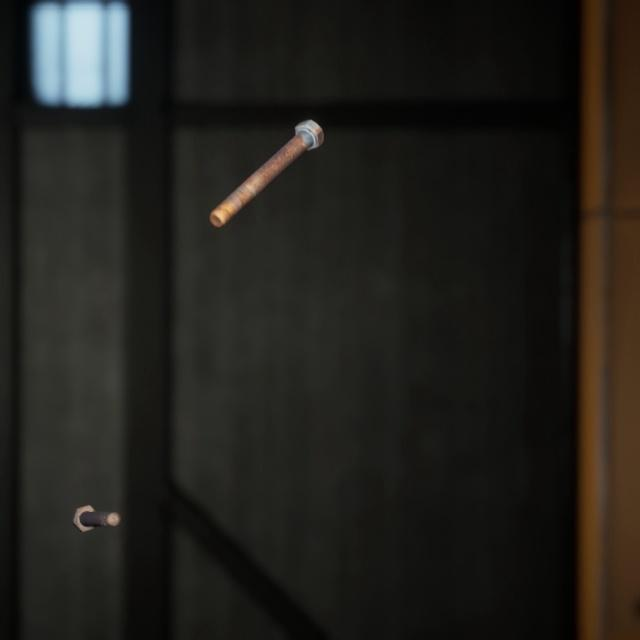bolt: (205, 101, 328, 216), (67, 479, 125, 515)
